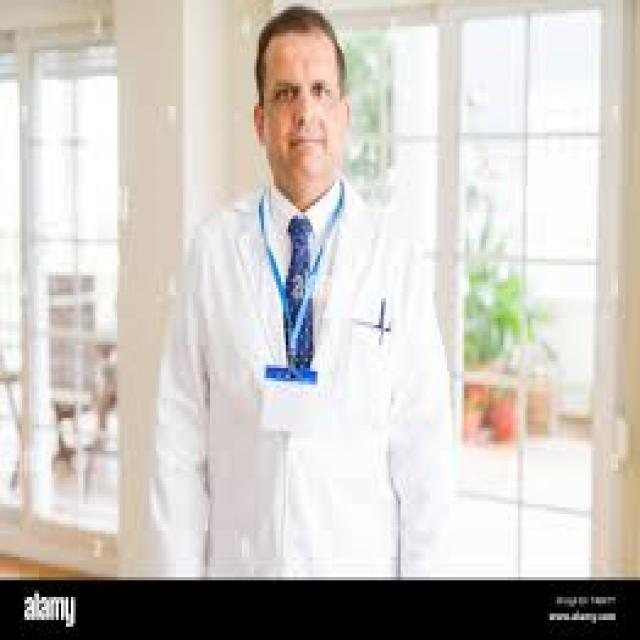id_card: (248, 193, 342, 447)
